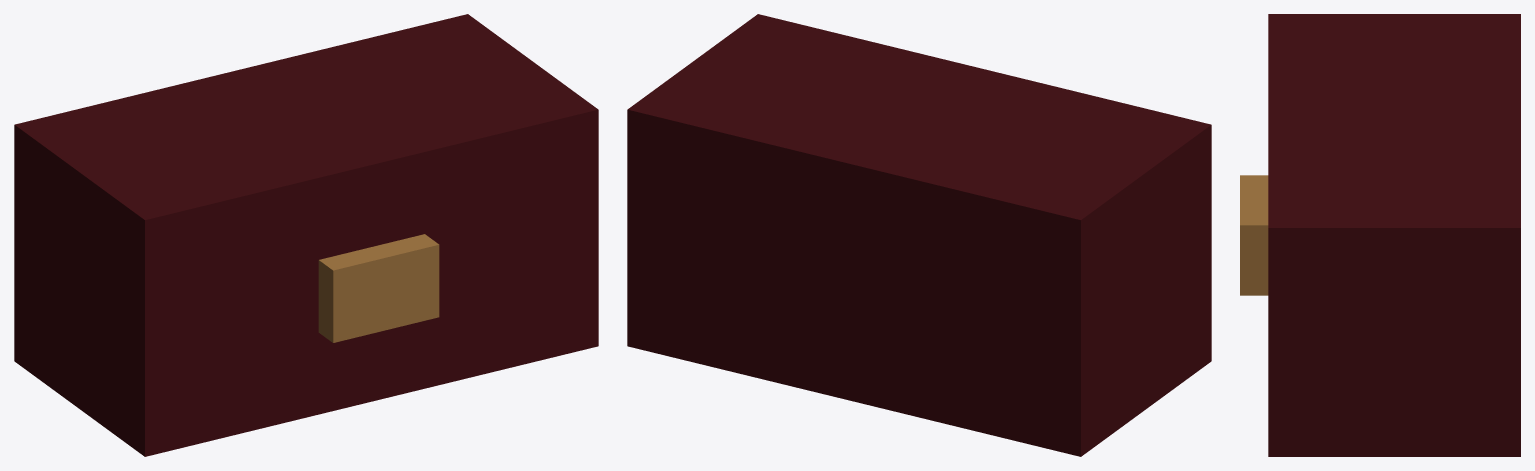
Rendered from Jewelry_Box.fbx.
The picture shows the model from 3 angles, left to right: view 1: azimuth 30°, elevation 25°; view 2: azimuth 150°, elevation 25°; view 3: azimuth 270°, elevation 25°; orthographic projection. The views are drawn at different scales.
Parts seen in each view (by area): view 1: Jewelry Box; view 2: Jewelry Box; view 3: Jewelry Box.
Part boxes in pixels (left/top/right/bottom): Jewelry Box: left=14, top=14, right=598, bottom=456; Jewelry Box: left=627, top=14, right=1211, bottom=456; Jewelry Box: left=1240, top=14, right=1520, bottom=456.
Bounding box in the file's own units: 25.89 × 12.91 × 14.35.
